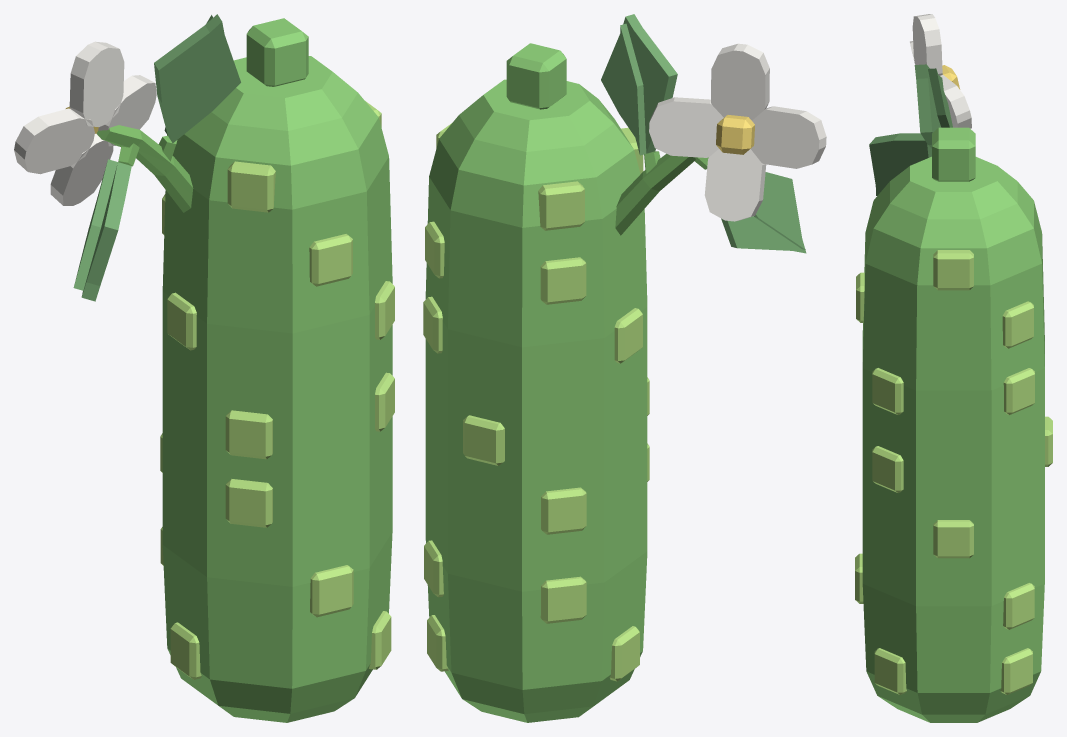
The model's file is FloweredCucumber.fbx.
The picture shows the model from 3 angles, left to right: view 1: azimuth 30°, elevation 25°; view 2: azimuth 150°, elevation 25°; view 3: azimuth 270°, elevation 25°; orthographic projection. The views are drawn at different scales.
Parts seen in each view (by area): view 1: FloweredCucumber.Body, FloweredCucumber.Studs, FloweredCucumber.Petals, FloweredCucumber.Leaves, FloweredCucumber.Stem; view 2: FloweredCucumber.Body, FloweredCucumber.Studs, FloweredCucumber.Petals, FloweredCucumber.Leaves, FloweredCucumber.Stem, FloweredCucumber.FlowerCentre; view 3: FloweredCucumber.Body, FloweredCucumber.Studs, FloweredCucumber.Leaves, FloweredCucumber.Petals.
Part boxes in pixels (bbox=[...]): FloweredCucumber.Body: bbox=[162, 18, 392, 722]; FloweredCucumber.Studs: bbox=[160, 101, 394, 679]; FloweredCucumber.Petals: bbox=[14, 41, 156, 205]; FloweredCucumber.Leaves: bbox=[73, 14, 240, 301]; FloweredCucumber.Stem: bbox=[96, 125, 193, 212]; FloweredCucumber.Body: bbox=[425, 43, 647, 722]; FloweredCucumber.Studs: bbox=[423, 123, 649, 681]; FloweredCucumber.Petals: bbox=[649, 43, 826, 221]; FloweredCucumber.Leaves: bbox=[601, 14, 806, 253]; FloweredCucumber.Stem: bbox=[615, 151, 708, 235]; FloweredCucumber.FlowerCentre: bbox=[716, 115, 754, 154]; FloweredCucumber.Body: bbox=[862, 127, 1044, 722]; FloweredCucumber.Studs: bbox=[855, 250, 1052, 694]; FloweredCucumber.Leaves: bbox=[869, 64, 952, 195]; FloweredCucumber.Petals: bbox=[910, 14, 971, 128].
Bounding box in the file's own units: 2.57 × 4.59 × 1.36.
